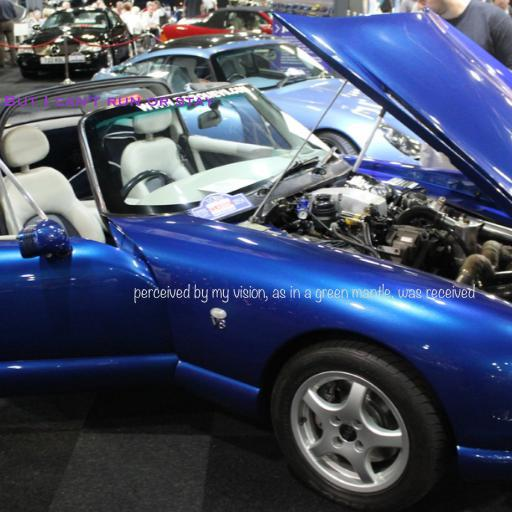Copperplate: (2, 95, 214, 106)
Noteworthy: (133, 283, 475, 304)
